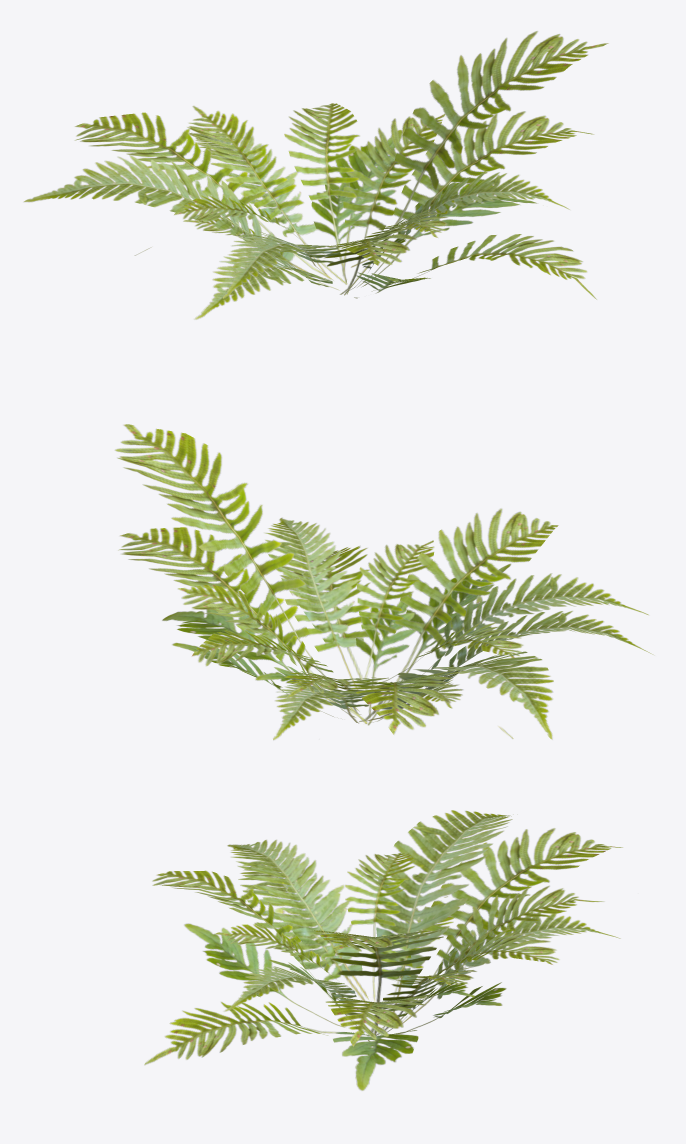
The model's file is fern_plant.glb.
3 renders of one model, top to bottom at view 1: azimuth 30°, elevation 25°; view 2: azimuth 150°, elevation 25°; view 3: azimuth 270°, elevation 25°, orthographic. The views are drawn at different scales.
Parts seen in each view (by area): view 1: Plane; view 2: Plane; view 3: Plane.
Boxes of the visible parts, bbox=[...] form: Plane: bbox=[23, 31, 608, 319]; Plane: bbox=[115, 424, 654, 740]; Plane: bbox=[144, 810, 622, 1090].
Bounding box in the file's own units: 0.6 × 0.2027 × 0.5734.
1 material, 1 textured.
